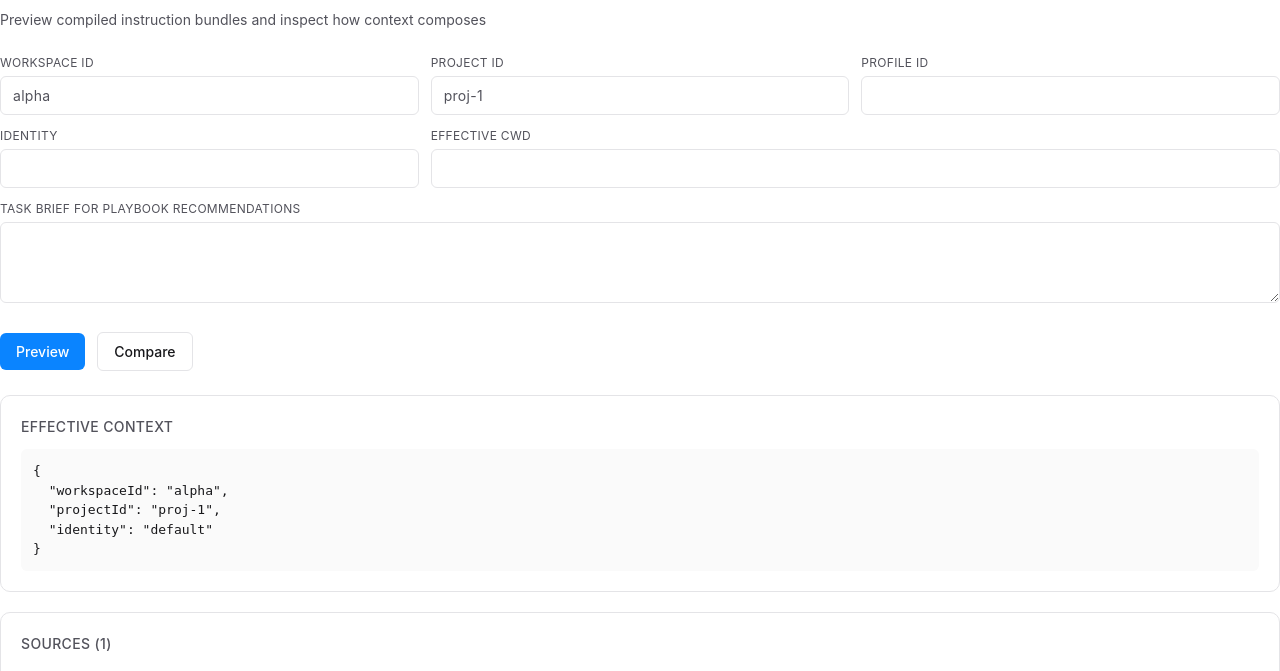
Instructions › compares the loaded preview to the current draft context
Replace the text in the field labelled "Project ID" with "proj-2". click: x=640, y=96
box: [431,76,849,115]
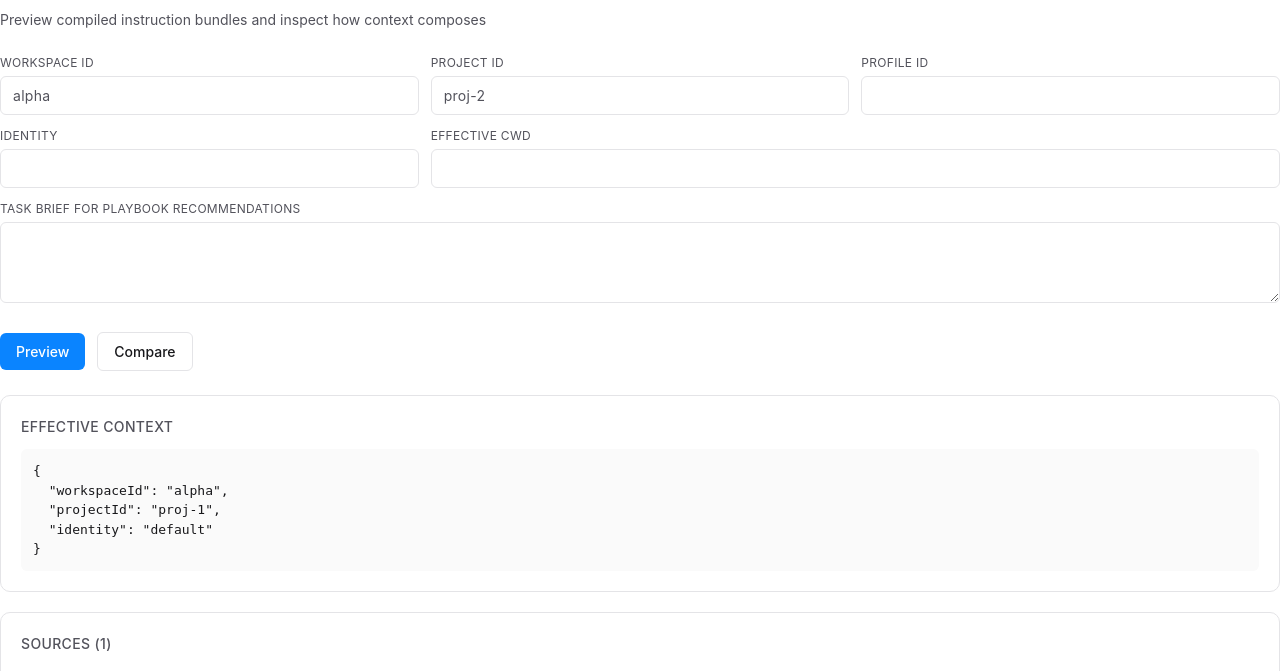
Click the button "Compare". click: x=145, y=352
box: [97,332,193,371]
(page scrolled)
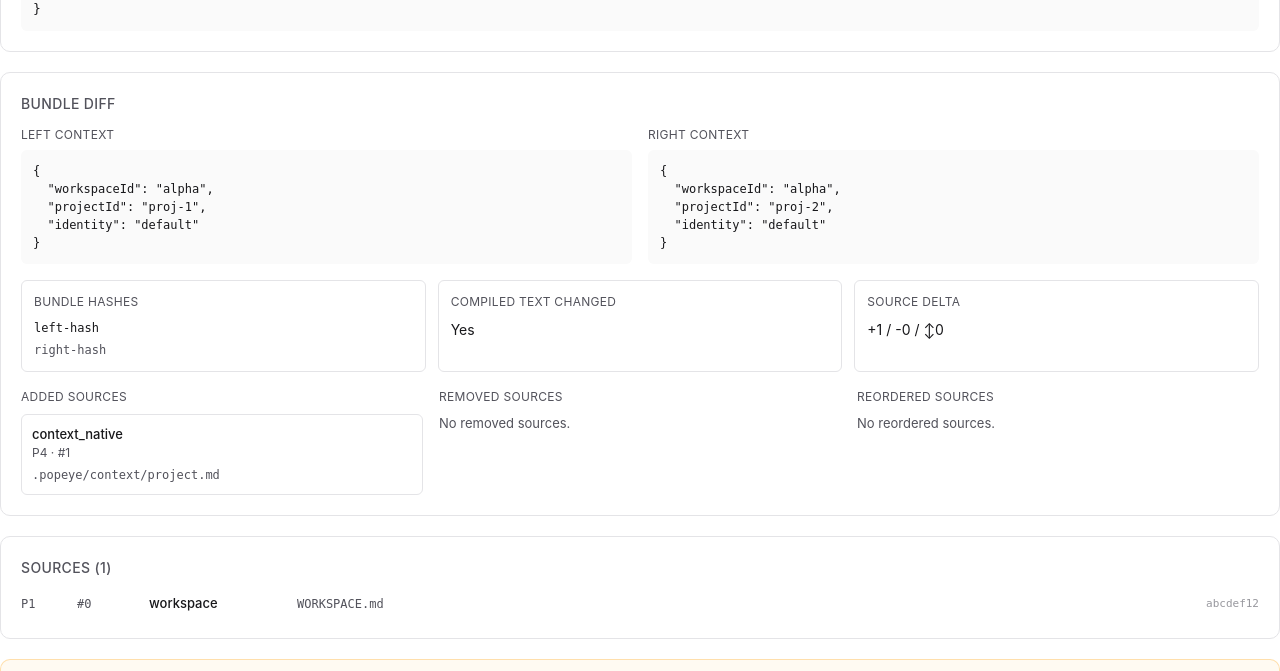
Expected: the heading "Bundle diff" is shown, [21,94,116,112]
Expected: the text ".popeye/context/project.md" is shown, [32,468,220,482]
Expected: the text "Yes" is shown, [451,320,475,338]
